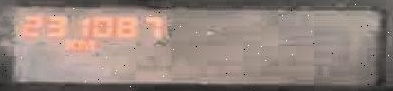0: (89, 16, 111, 36)
1: (76, 16, 89, 36)
2: (18, 15, 40, 36)
3: (43, 15, 65, 36)
7: (140, 14, 162, 37)
8: (114, 16, 136, 37)
X: (76, 38, 94, 49), (60, 37, 76, 49)
